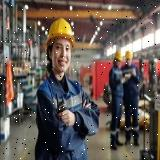Helmet: (46, 17, 75, 48), (124, 49, 133, 61), (114, 49, 122, 62)
